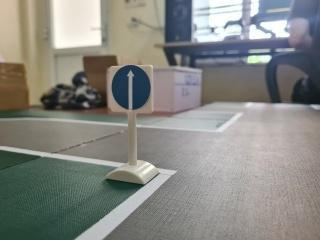straight: (105, 65, 156, 114)
